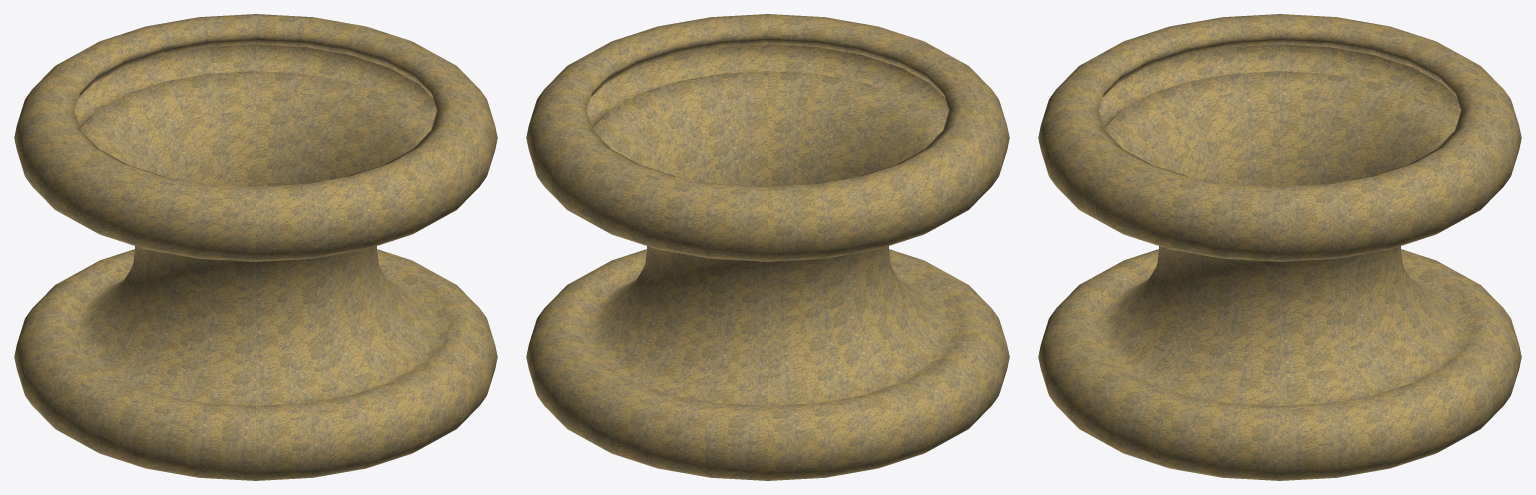
The picture shows the model from 3 angles, left to right: view 1: azimuth 30°, elevation 25°; view 2: azimuth 150°, elevation 25°; view 3: azimuth 270°, elevation 25°; orthographic projection.
Parts seen in each view (by area): view 1: mesh1_mesh1-geometry; view 2: mesh1_mesh1-geometry; view 3: mesh1_mesh1-geometry.
Part boxes in pixels (x1,y1,x2,y2): mesh1_mesh1-geometry: (14,14,497,480); mesh1_mesh1-geometry: (526,14,1009,480); mesh1_mesh1-geometry: (1038,14,1521,480).
Bounding box in the file's own units: 0.6415 × 0.4206 × 0.6415.
